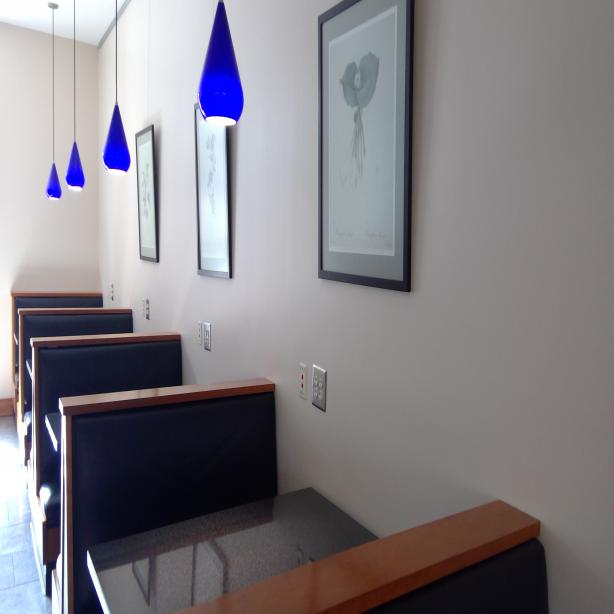typeb: (318, 375, 323, 391), (314, 385, 318, 398), (314, 374, 318, 386), (318, 389, 322, 401)
